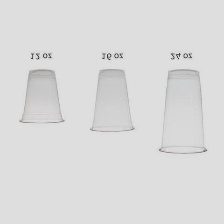glass: (153, 61, 212, 155), (85, 64, 137, 134), (13, 68, 71, 127)
